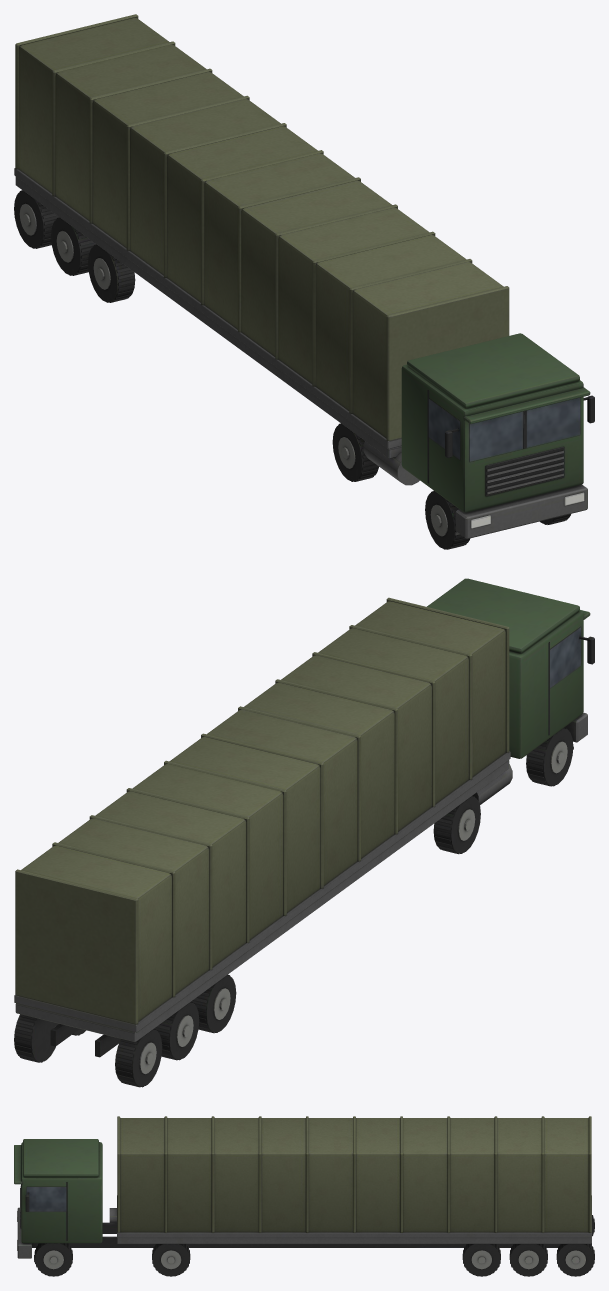
The model's file is truck_box_green.glb.
3 views of the same model, one above another, from view 1: azimuth 30°, elevation 25°; view 2: azimuth 150°, elevation 25°; view 3: azimuth 270°, elevation 25° (orthographic). The views are drawn at different scales.
Visible parts, largest first — view 1: truck_box_green; view 2: truck_box_green; view 3: truck_box_green.
Boxes of the visible parts, left/top/right/bottom form: truck_box_green: left=14, top=14, right=594, bottom=549; truck_box_green: left=14, top=578, right=594, bottom=1087; truck_box_green: left=14, top=1116, right=594, bottom=1276.
Bounding box in the file's own units: 3.01 × 3.78 × 16.08.
1 material, 1 textured.
